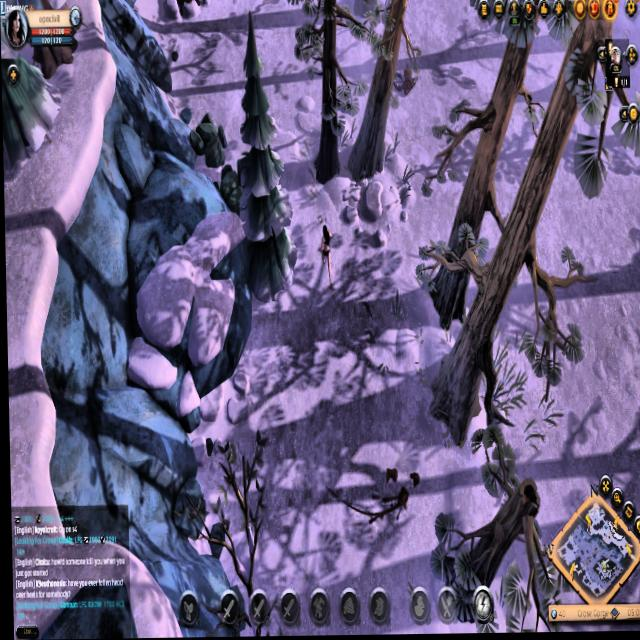sandstone: (186, 111, 227, 168), (214, 163, 243, 214)
